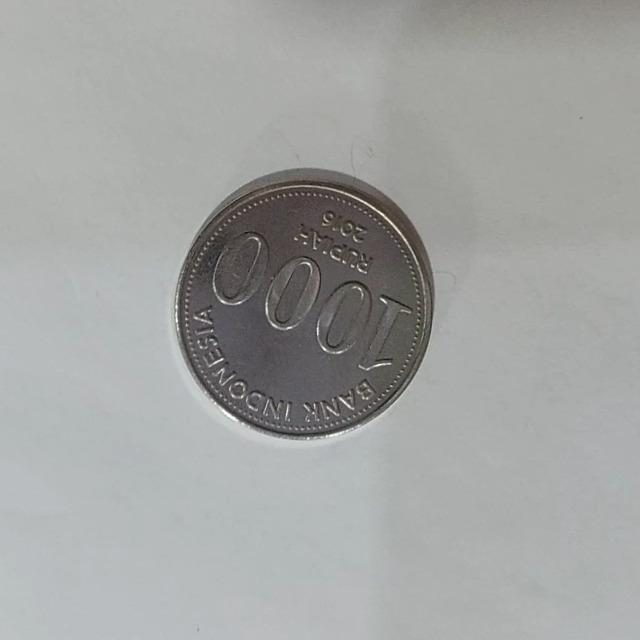Rp100: (171, 166, 436, 441)
